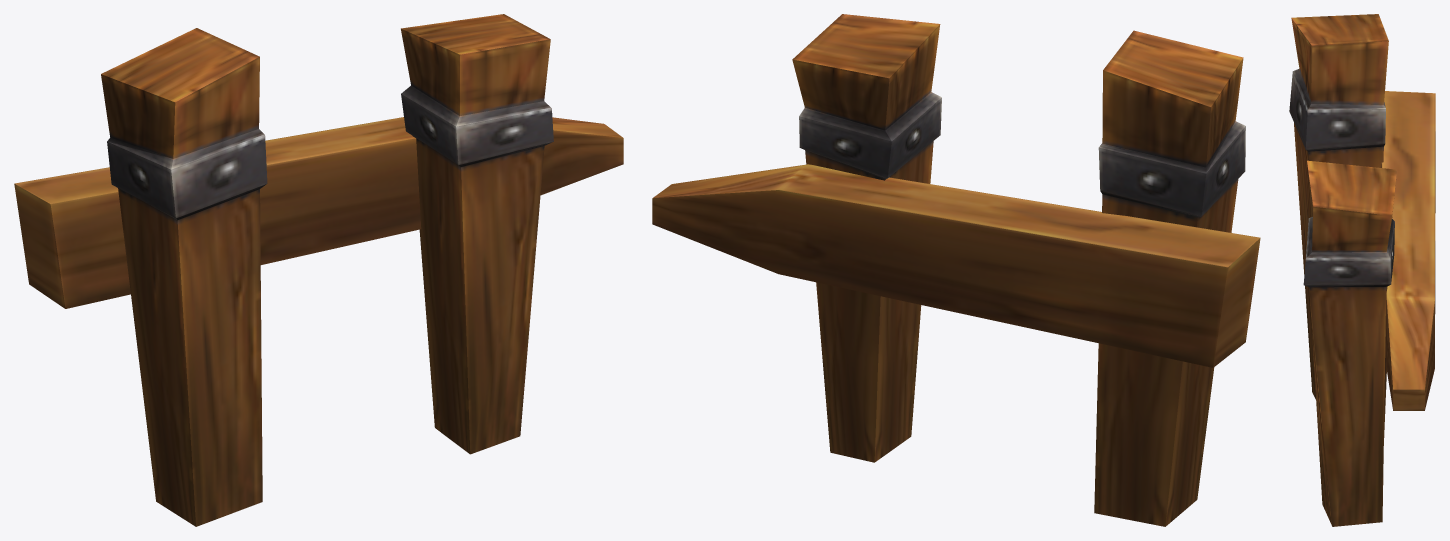
The model's file is Zhalan03.FBX.
3 views of the same model, side by side, from view 1: azimuth 30°, elevation 25°; view 2: azimuth 150°, elevation 25°; view 3: azimuth 270°, elevation 25° (orthographic). The views are drawn at different scales.
Parts seen in each view (by area): view 1: Box30; view 2: Box30; view 3: Box30.
Part boxes in pixels (x1,y1,x2,y2): Box30: [14, 14, 623, 526]; Box30: [652, 14, 1260, 526]; Box30: [1289, 14, 1435, 526].
Bounding box in the file's own units: 8.14 × 6.07 × 2.16.
